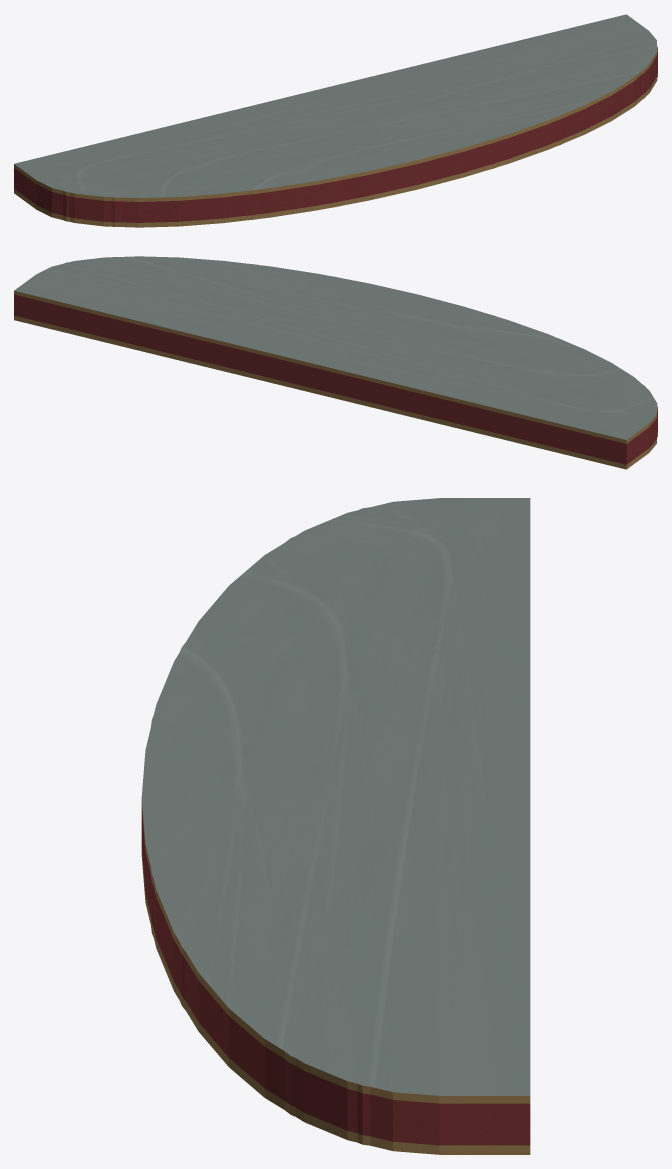
File: BladeCanopy.fbx
The picture shows the model from 3 angles, top to bottom: view 1: azimuth 30°, elevation 25°; view 2: azimuth 150°, elevation 25°; view 3: azimuth 270°, elevation 25°; orthographic projection. The views are drawn at different scales.
Visible parts, largest first — view 1: BladeCanopy Close, BladeCanopy Horizon, BladeCanopy Street; view 2: BladeCanopy Close, BladeCanopy Horizon, BladeCanopy Street; view 3: BladeCanopy Close, BladeCanopy Horizon, BladeCanopy Street.
Boxes of the visible parts, left/top/right/bottom form: BladeCanopy Close: left=14, top=14, right=657, bottom=227; BladeCanopy Horizon: left=15, top=31, right=648, bottom=197; BladeCanopy Street: left=18, top=31, right=657, bottom=226; BladeCanopy Close: left=14, top=256, right=657, bottom=469; BladeCanopy Horizon: left=39, top=257, right=647, bottom=439; BladeCanopy Street: left=39, top=257, right=657, bottom=438; BladeCanopy Close: left=141, top=498, right=530, bottom=1154; BladeCanopy Horizon: left=144, top=498, right=529, bottom=1095; BladeCanopy Street: left=144, top=498, right=529, bottom=1145.
Bounding box in the file's own units: 750 × 38.2 × 206.
